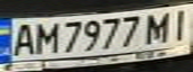7: (57, 18, 84, 54), (118, 12, 145, 47), (100, 16, 124, 51)
9: (78, 17, 103, 52)
A: (6, 20, 39, 56)
I: (166, 6, 193, 40)
M: (142, 9, 175, 44), (30, 19, 60, 55)
